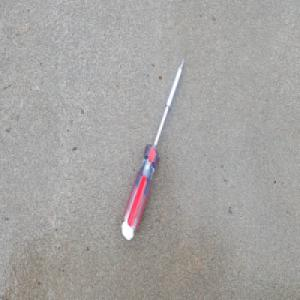Screwdriver: (120, 57, 186, 242)
